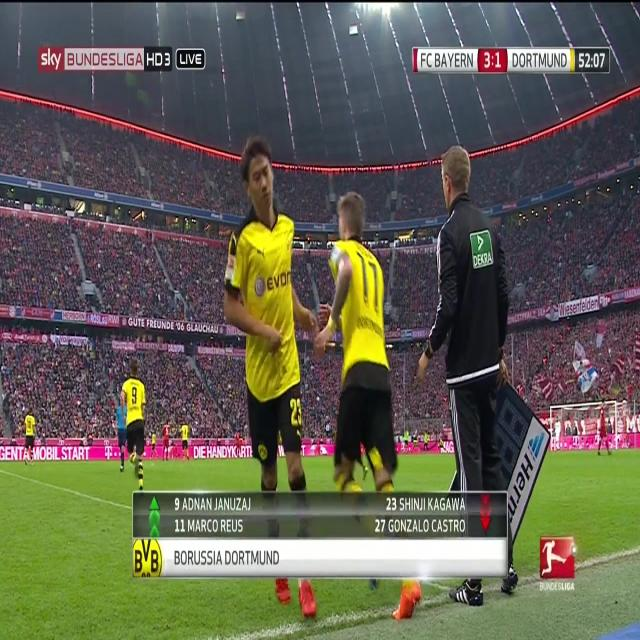Player: (312, 183, 424, 619), (221, 130, 319, 628), (120, 362, 148, 492), (592, 402, 611, 458), (21, 406, 37, 468), (160, 417, 174, 464), (179, 420, 191, 462), (148, 431, 157, 458)
